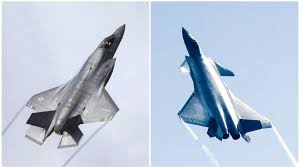fighter: (21, 21, 129, 150), (176, 26, 276, 147)
